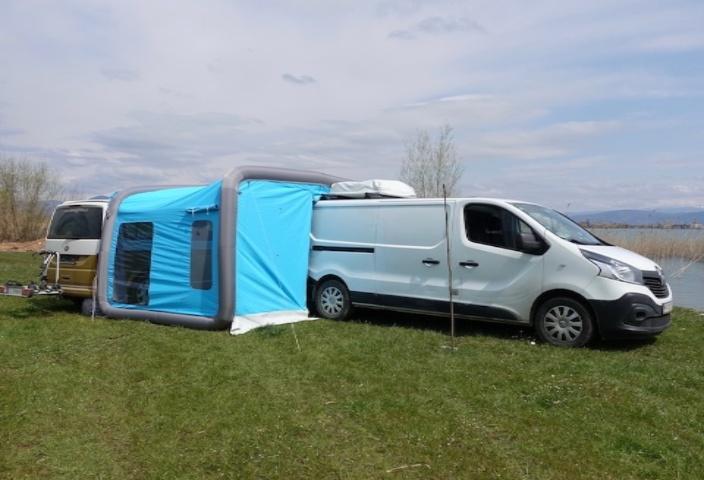van: (307, 182, 679, 361)
